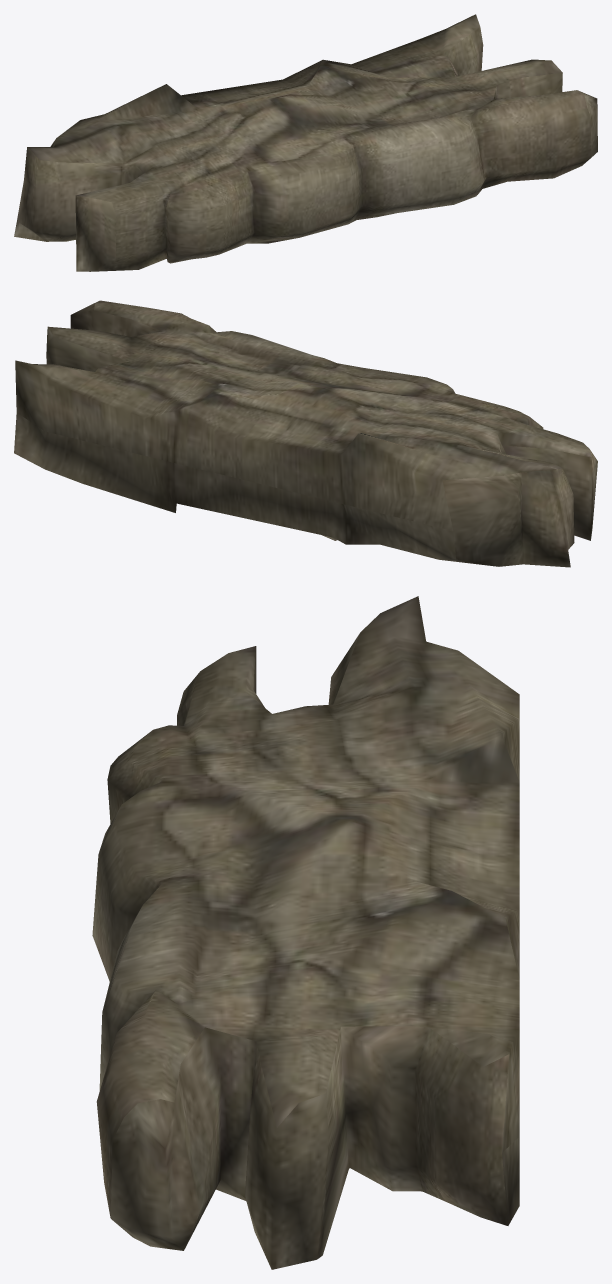
Rendered from hill400_sandbag_shortsection.glb.
3 renders of one model, top to bottom at view 1: azimuth 30°, elevation 25°; view 2: azimuth 150°, elevation 25°; view 3: azimuth 270°, elevation 25°, orthographic. The views are drawn at different scales.
Size of the model in its own units: 94.15 by 22.14 by 33.47.
1 material, 1 textured.
